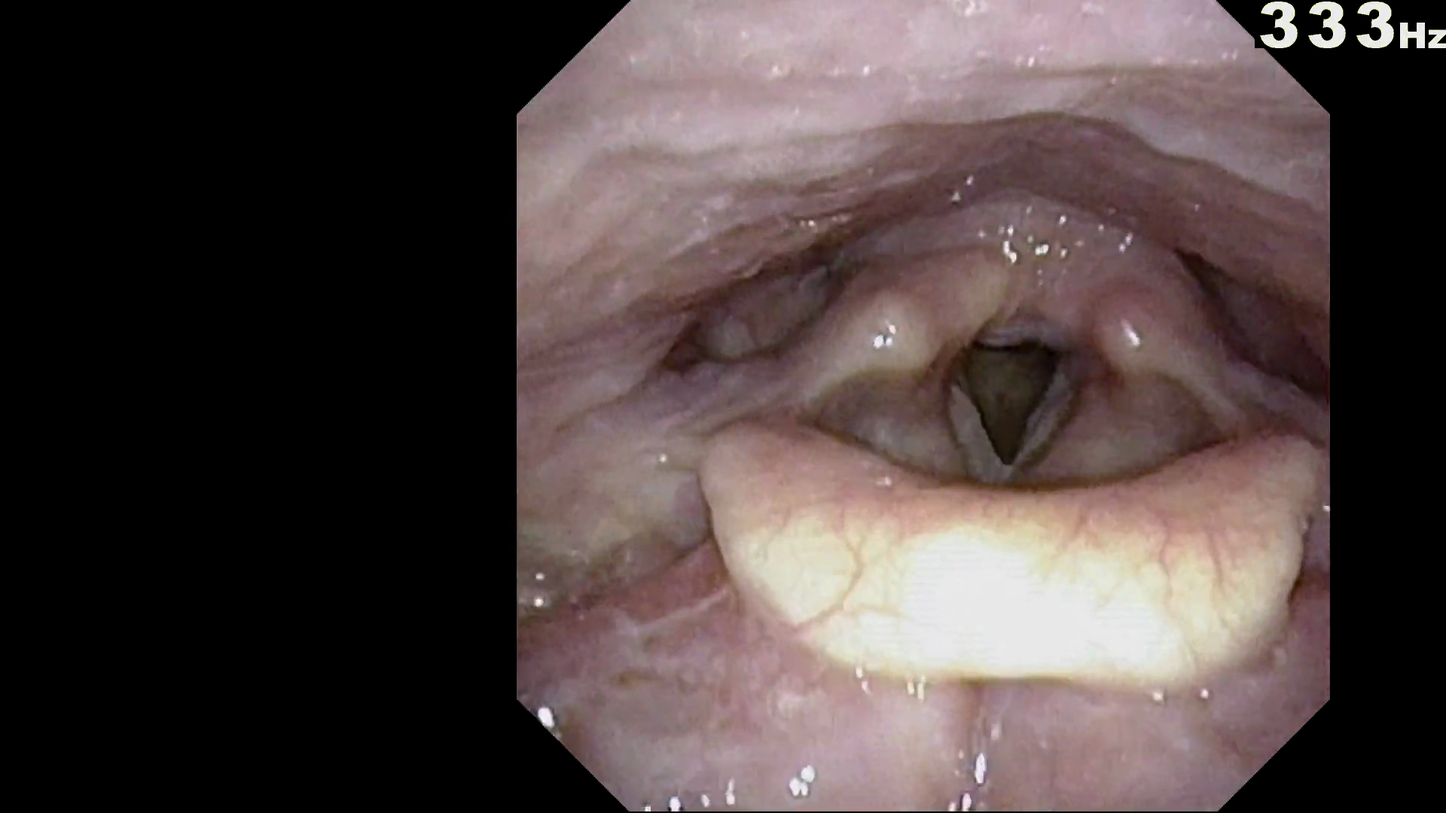epiglottis: (692, 415, 1308, 689)
trachea: (928, 313, 1102, 515)
